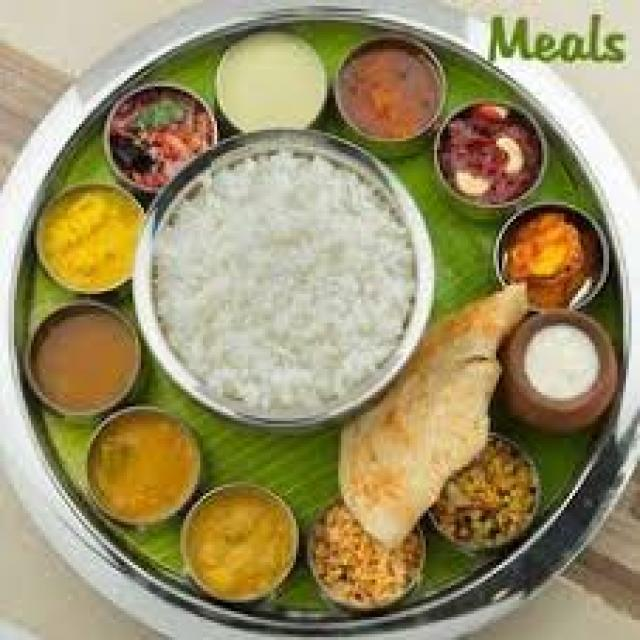curd: (496, 302, 627, 433)
pickle: (436, 100, 547, 205), (333, 41, 449, 141)
rice: (165, 157, 425, 393)
sweet: (495, 212, 603, 299)
